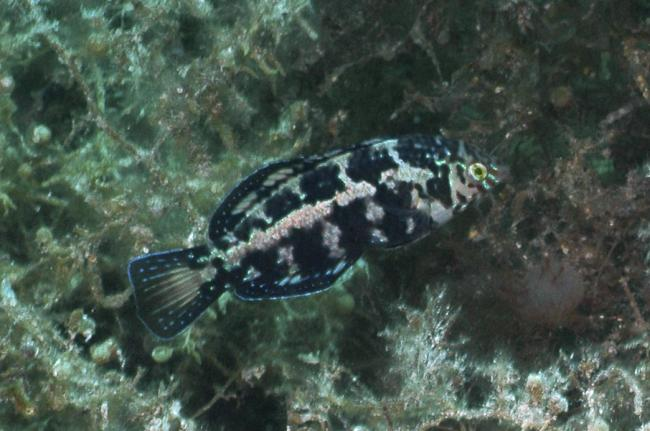fish: (127, 133, 502, 343)
